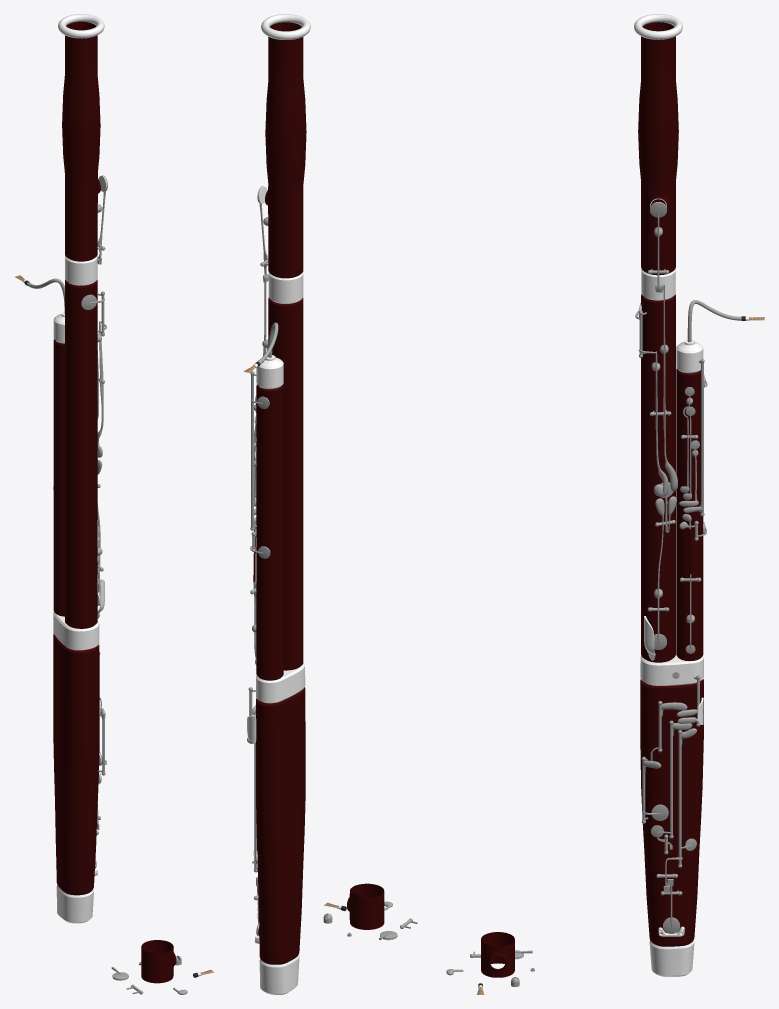
3 renders of one model, left to right at view 1: azimuth 30°, elevation 25°; view 2: azimuth 150°, elevation 25°; view 3: azimuth 270°, elevation 25°, orthographic. The views are drawn at different scales.
Visible parts, largest first — view 1: Bassoon_8, Hole_0; view 2: Bassoon_8, Hole_0; view 3: Bassoon_8, Hole_0.
Boxes of the visible parts, x1,y1,x2,y2 form: Bassoon_8: (15, 14, 107, 923); Hole_0: (141, 940, 176, 983); Bassoon_8: (243, 14, 310, 994); Hole_0: (347, 883, 384, 929); Bassoon_8: (634, 14, 764, 976); Hole_0: (481, 932, 514, 977).
Size of the model in its own units: 5.81 by 60.39 by 18.33.
9 materials, 1 textured.
